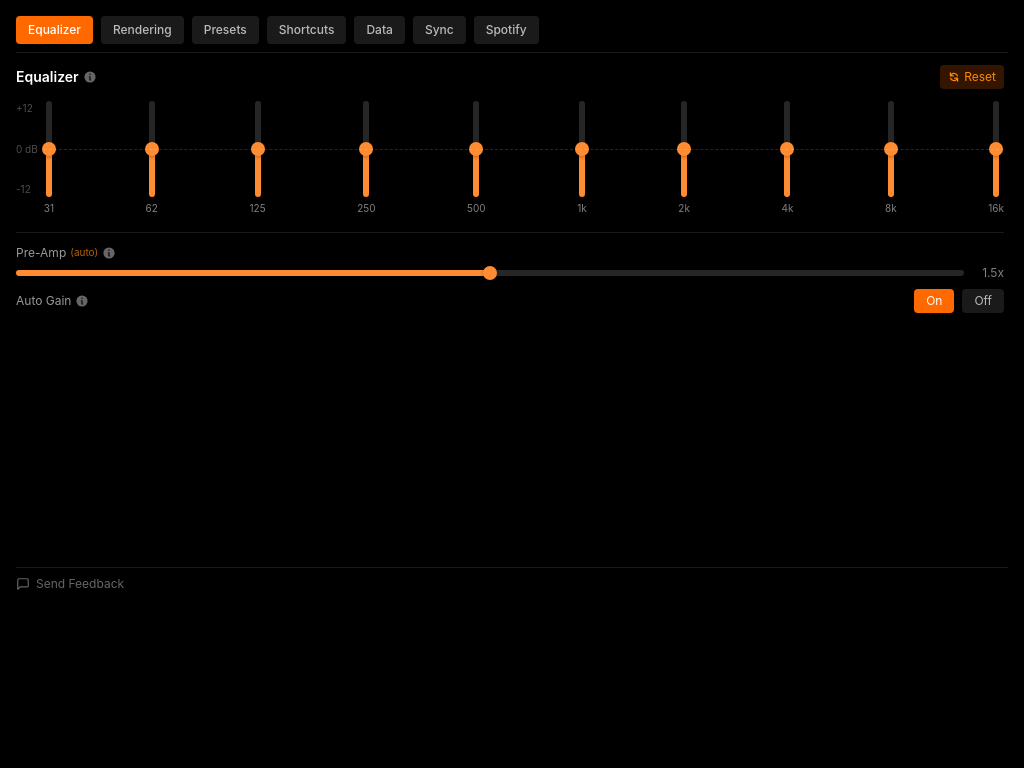
Scenario: SettingsPanel › switches back to Equalizer tab
What coordinates should you click on to do the following:
click the button "Rendering"
I would click on:
 (142, 30)
Its box is [101,16,184,44].
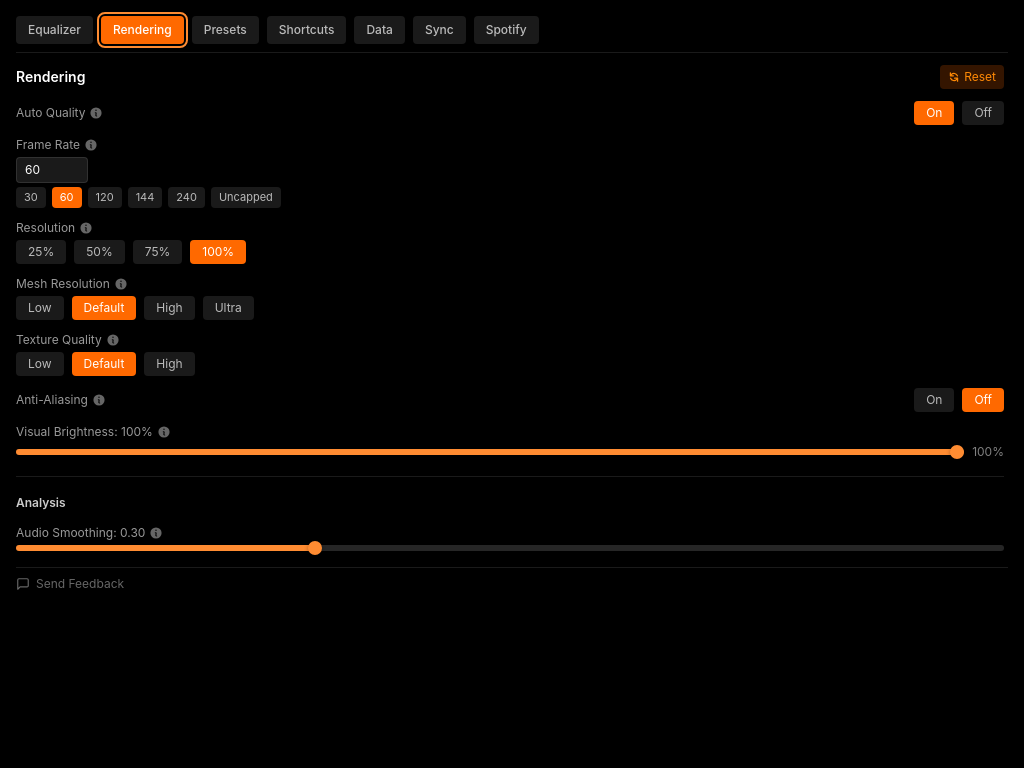
Result: the text "Frame Rate" is shown at [16,137,98,152]
What coordinates should you click on to do the following:
click the button "Equalizer"
I would click on:
 (54, 30)
Its box is [16,16,93,44].
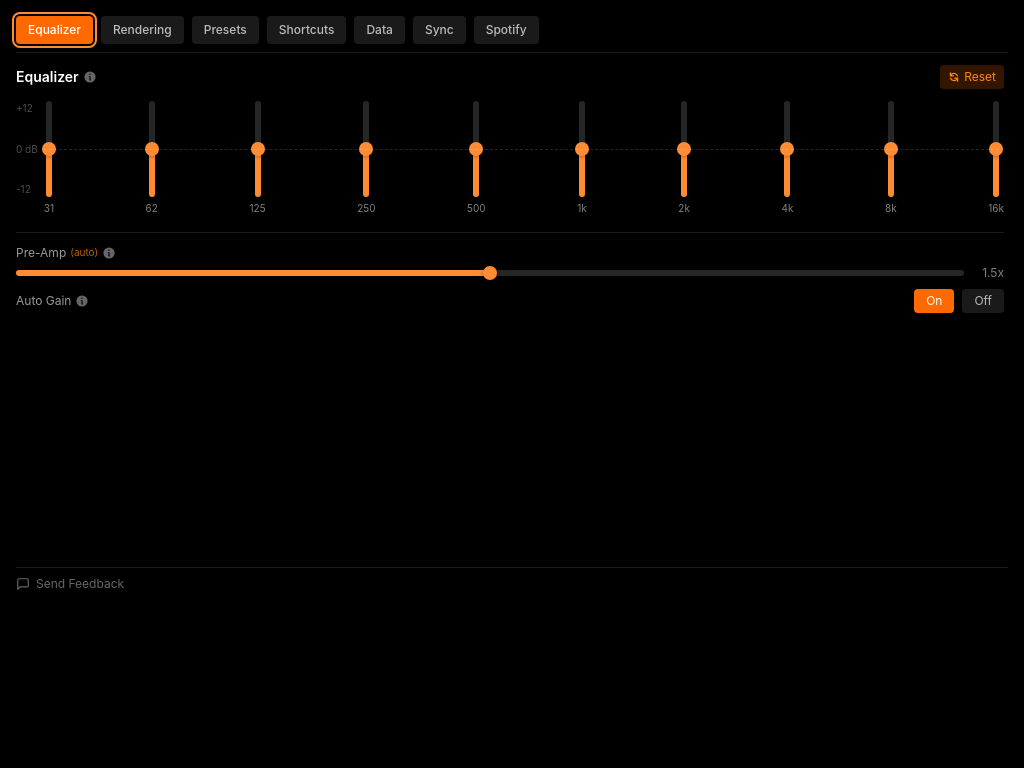
Result: the text "Pre-Amp" is shown at [16,245,66,260]
